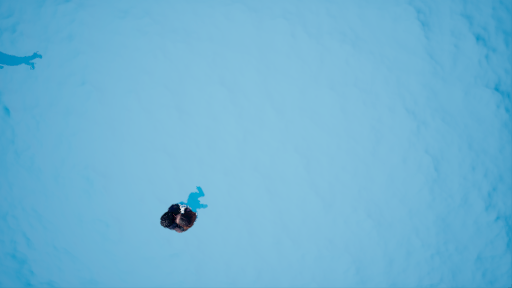person: (152, 185, 208, 239)
